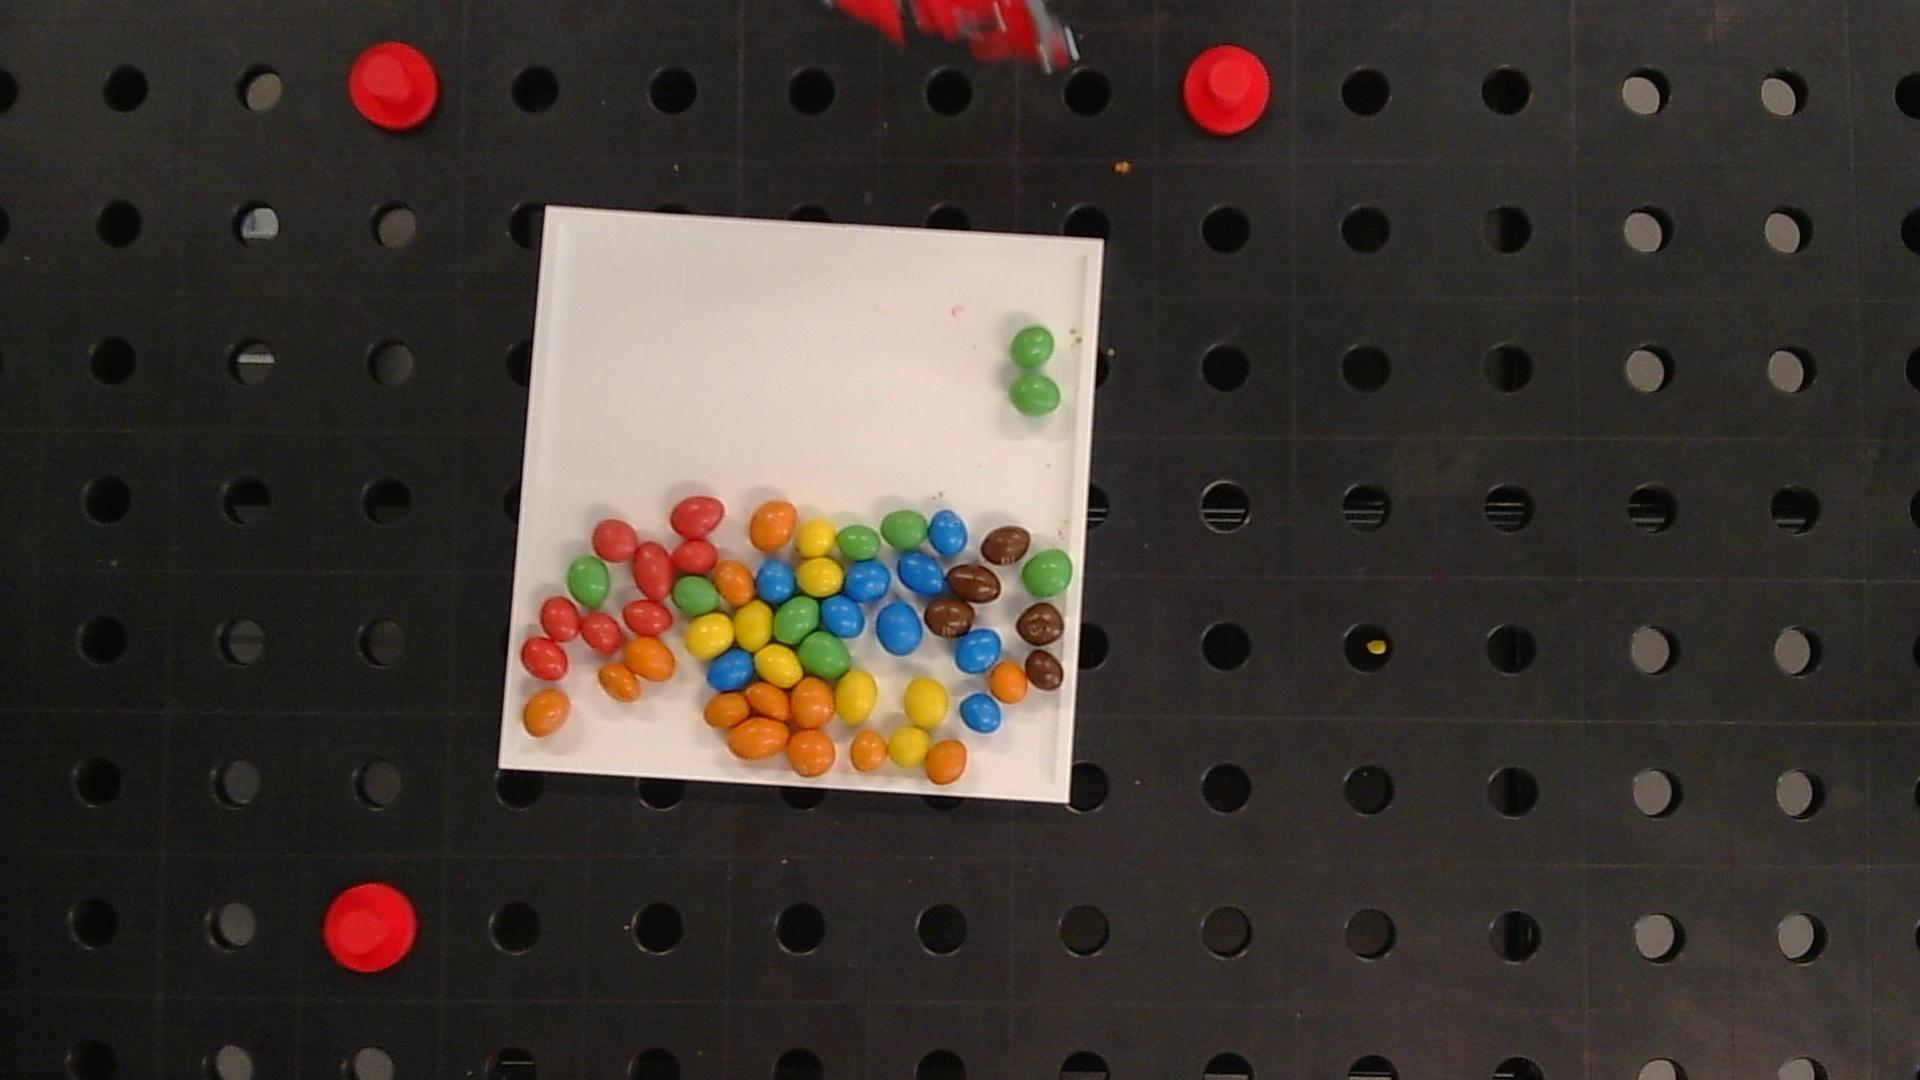blue: (877, 601, 923, 654), (956, 629, 1002, 674), (707, 649, 754, 691), (844, 560, 891, 603), (898, 553, 944, 595), (822, 595, 865, 637), (927, 510, 968, 554), (756, 560, 796, 601), (960, 694, 1002, 733)
brown: (1015, 603, 1064, 646), (947, 564, 1001, 603), (980, 525, 1030, 564), (924, 599, 973, 637), (1025, 651, 1064, 690)
green: (1022, 550, 1072, 596), (799, 633, 851, 678), (1010, 373, 1062, 417), (567, 556, 609, 607), (774, 596, 819, 642), (881, 510, 928, 550), (1010, 327, 1055, 368), (674, 575, 720, 613), (837, 524, 882, 560)
orange: (728, 717, 789, 758), (787, 729, 836, 775), (750, 501, 796, 550), (524, 690, 571, 736), (625, 637, 675, 680), (791, 679, 835, 728), (713, 559, 754, 604), (926, 740, 967, 783), (704, 691, 749, 729), (597, 662, 640, 702), (746, 682, 790, 720), (849, 729, 887, 771), (990, 661, 1027, 703)
red: (633, 542, 673, 600), (671, 495, 724, 538), (521, 637, 568, 680), (592, 518, 637, 562), (541, 597, 580, 641), (624, 600, 673, 634), (579, 613, 621, 653), (674, 539, 716, 572)
yellow: (686, 613, 733, 659), (836, 671, 877, 724), (905, 678, 948, 727), (733, 601, 773, 650), (757, 646, 802, 684), (798, 558, 843, 596), (887, 725, 928, 766), (795, 518, 836, 555)
